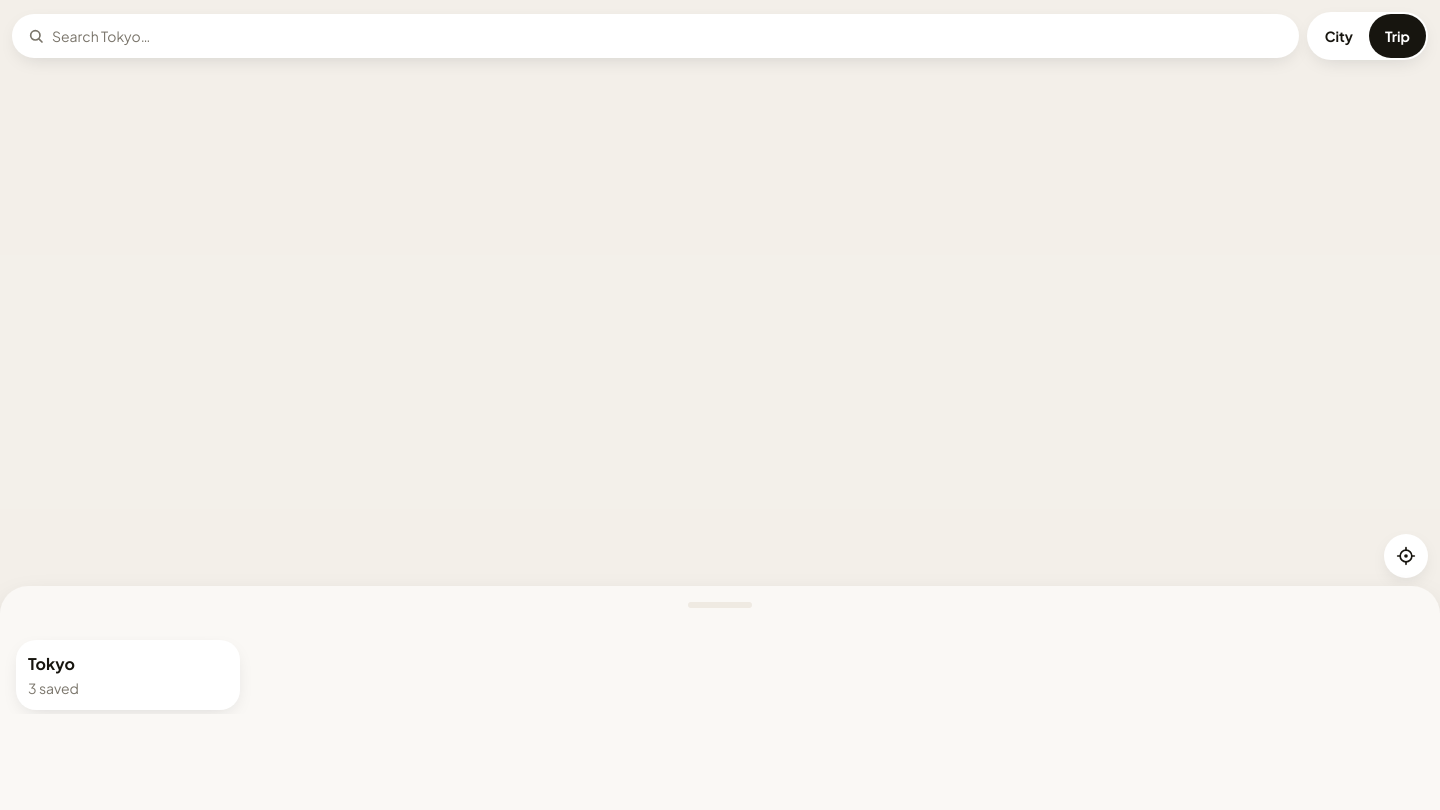
Scenario: the count › agrees in number with the singular
This screenshot has width=1440, height=810.
What coordinates should you click on to do the following:
click the button "City"
I would click on:
 (1339, 36)
Its box is [1309, 14, 1369, 58].
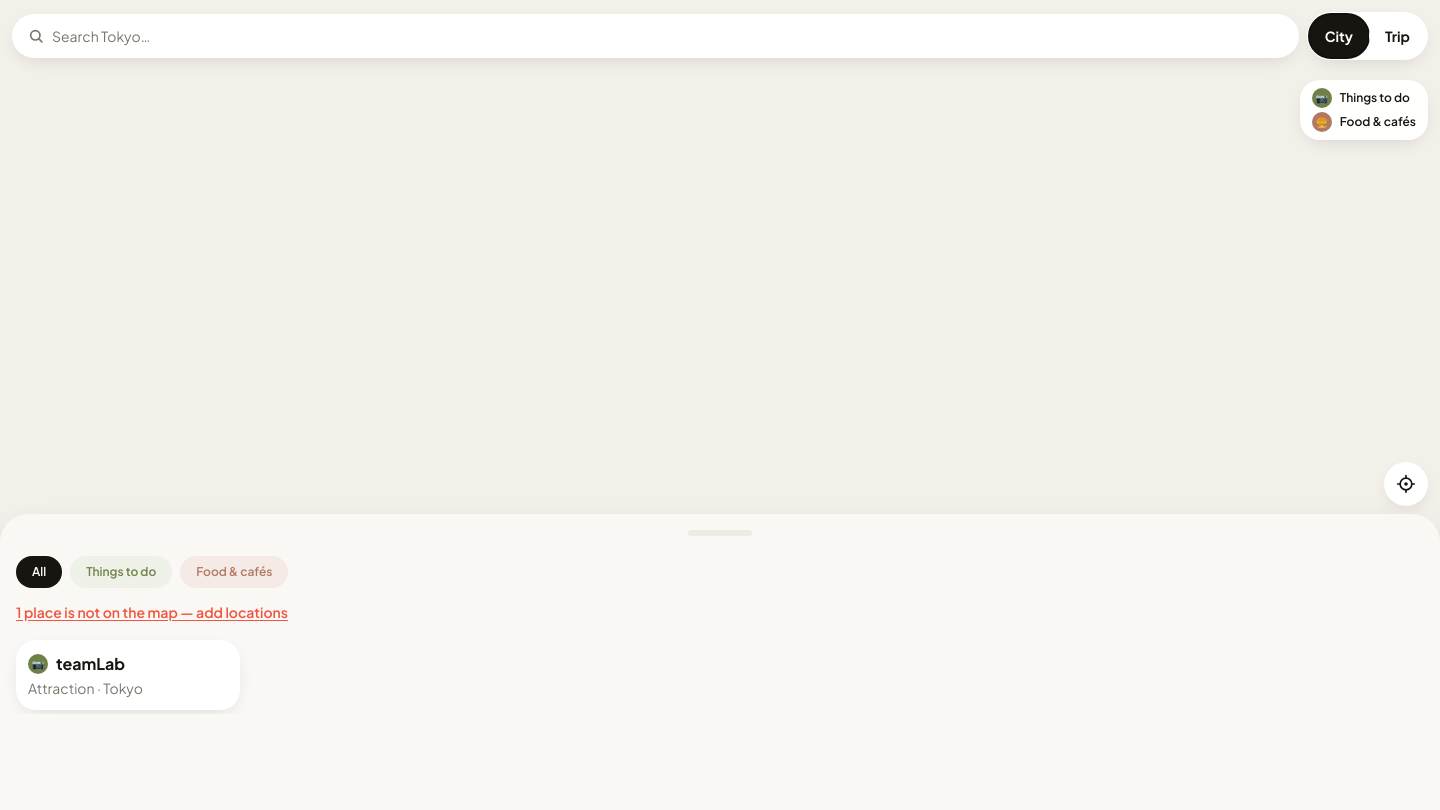
Result: the button "1 place is not on the map — add locations" is shown at [16, 602, 288, 622]
